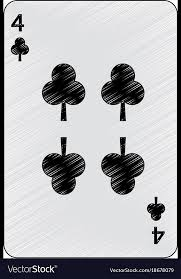four of clubs: (4, 2, 176, 255)
